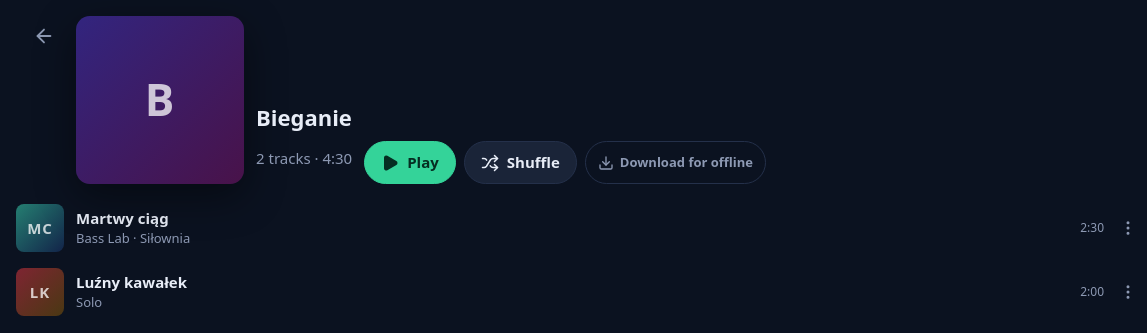
it: collection views › downloads a playlist for offline use and removes it again
This screenshot has width=1147, height=333.
Expected: the text "Martwy ciąg" is shown, [76,208,169,228]
What coordinates should you click on to do the following:
click the button "Download for offline"
I would click on:
 (675, 162)
Its box is [585,141,766,184].
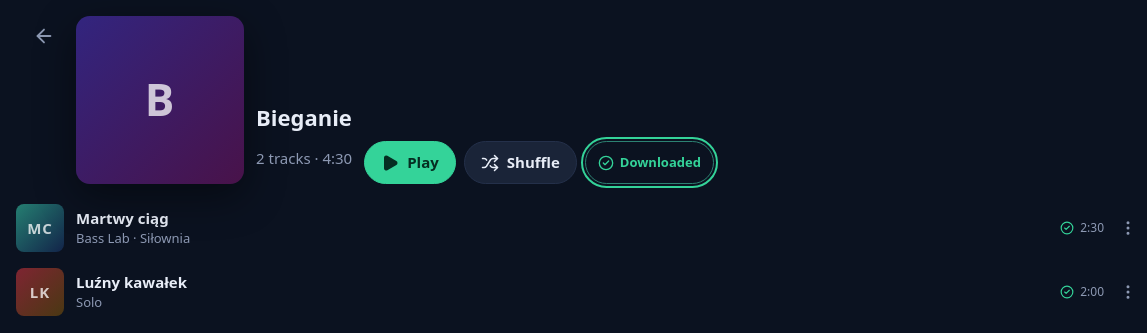
Now the button named "Download for offline" reads "Downloaded"
What coordinates should you click on to do the following:
click the button named "Download for offline"
I would click on:
 (649, 162)
Its box is [585,141,714,184].
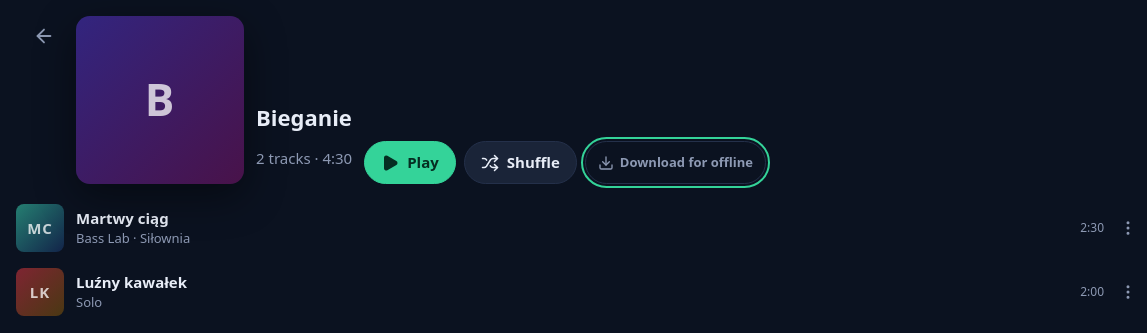
Now the button "Download for offline" is shown, box [585,141,766,184]
